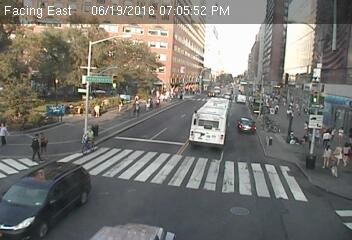neg: (248, 166, 280, 210), (262, 122, 291, 161), (171, 109, 199, 146), (113, 208, 135, 237), (202, 105, 224, 133), (80, 122, 100, 149), (228, 69, 248, 95), (13, 170, 32, 195), (200, 63, 218, 87), (242, 110, 259, 132), (151, 80, 167, 102), (174, 68, 186, 84), (288, 98, 300, 113)
pos: (20, 133, 42, 162), (316, 142, 335, 167), (37, 132, 54, 155), (112, 94, 128, 115), (331, 145, 346, 166), (318, 127, 333, 148), (334, 123, 349, 144), (131, 100, 145, 118), (92, 100, 103, 115)
